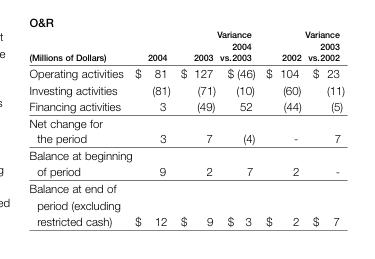table: (28, 28, 344, 227)
table column: (28, 28, 132, 227), (215, 28, 260, 227), (132, 28, 174, 227), (260, 28, 302, 227), (302, 28, 344, 227), (174, 28, 215, 227)
table column header: (28, 28, 344, 64)
table row: (28, 179, 344, 227), (28, 28, 344, 64), (28, 146, 344, 179), (28, 114, 344, 146), (28, 64, 344, 81), (28, 97, 344, 114), (28, 81, 344, 97)
